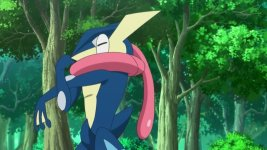greninja: (31, 9, 163, 150)
